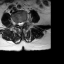CCS_normal: (20, 19, 21, 28)
LFS_normal: (24, 18, 26, 25)
LLS_normal: (21, 19, 24, 26)
RFS_normal: (15, 19, 18, 26)
RLS_normal: (18, 19, 20, 27)
